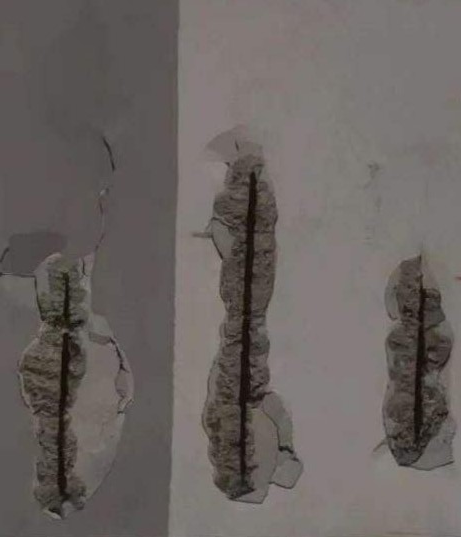Crack: (95, 137, 117, 253)
Exposed reinforcement: (239, 170, 258, 480), (57, 272, 71, 495), (413, 282, 426, 436)
Spalling: (201, 151, 303, 506), (15, 252, 136, 522), (381, 254, 456, 472)
